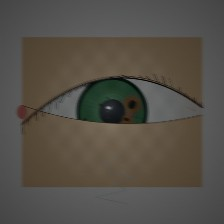foreign_body_visible: (97, 128, 126, 152)
